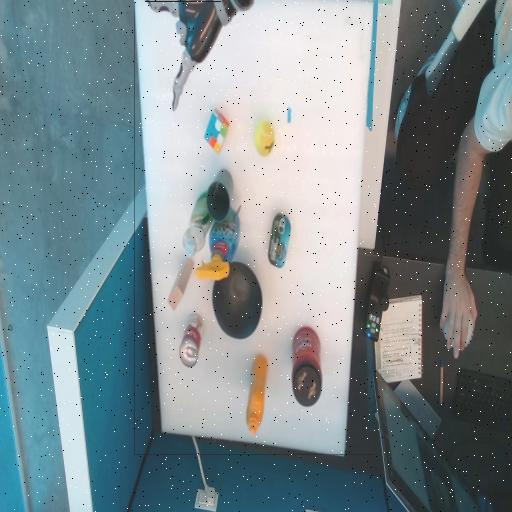bowl: (211, 263, 261, 339)
cleanser: (182, 193, 213, 258)
coffee_can: (292, 328, 320, 407)
jaco: (145, 18, 221, 67)
meat_can: (268, 214, 289, 267)
mug: (206, 182, 232, 208)
mustard_bottle: (246, 356, 266, 435)
rubik: (204, 111, 227, 153)
soup_can: (179, 315, 202, 367)
tennis_ball: (255, 121, 274, 155)
windex: (195, 225, 239, 266)
wooden_block: (166, 272, 192, 295)
workspace: (134, 2, 373, 454)
